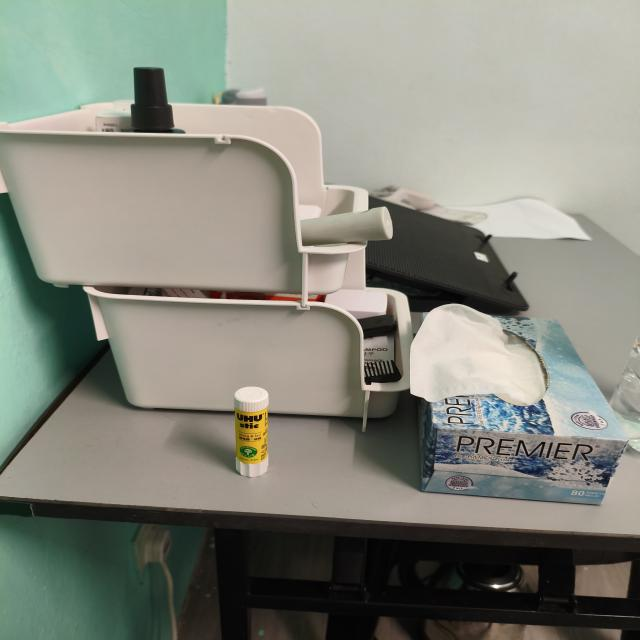glue: (234, 386, 269, 477)
